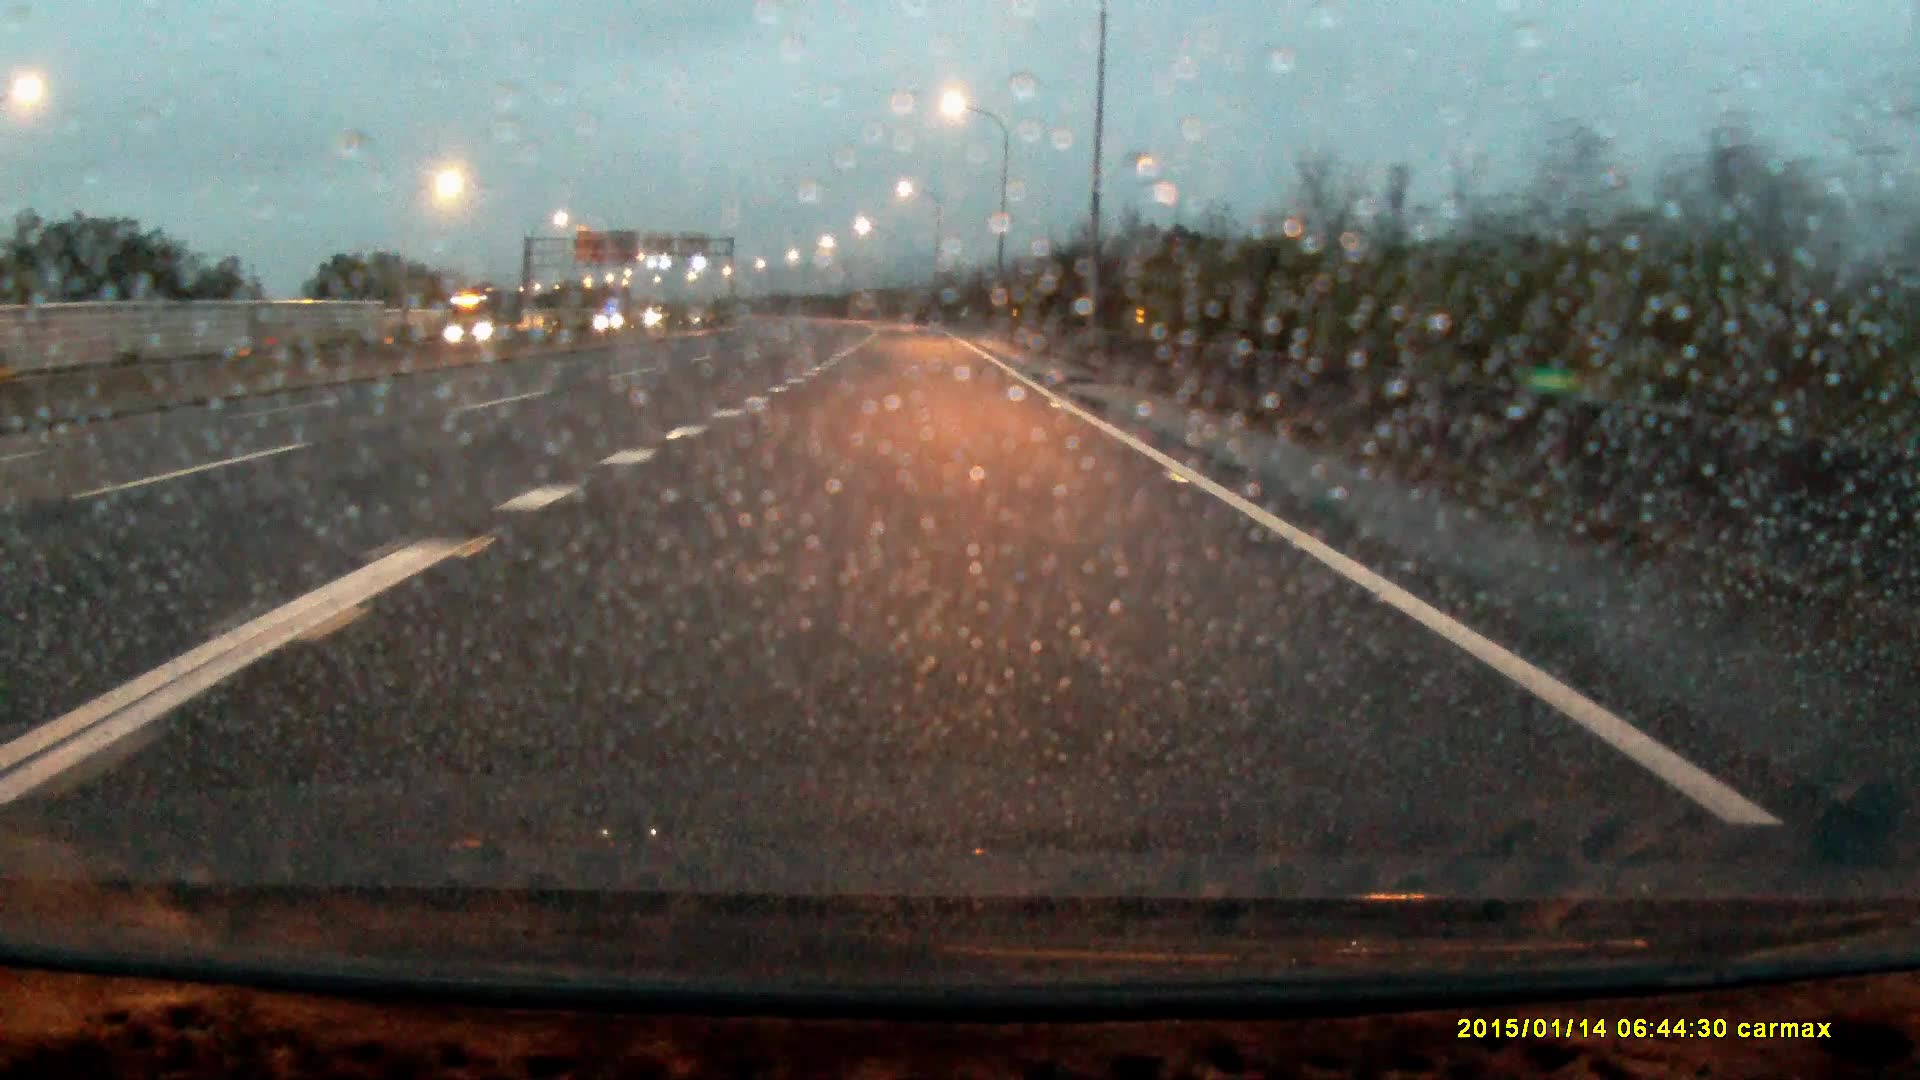vehicle: (448, 294, 517, 343)
